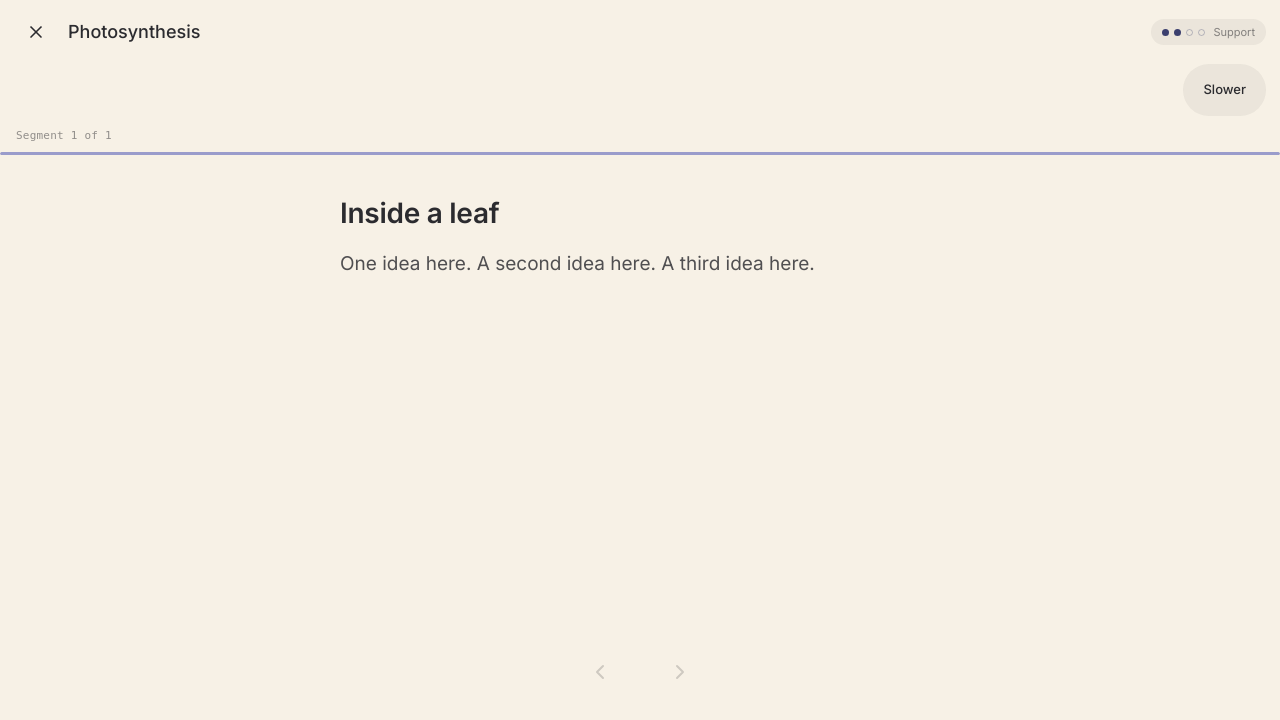
Test: authored Slower still wins where it exists › renders the numbered cards rather than chunking the body
Click the button "Slower" at (1225, 90), box [1188,68,1262,112]
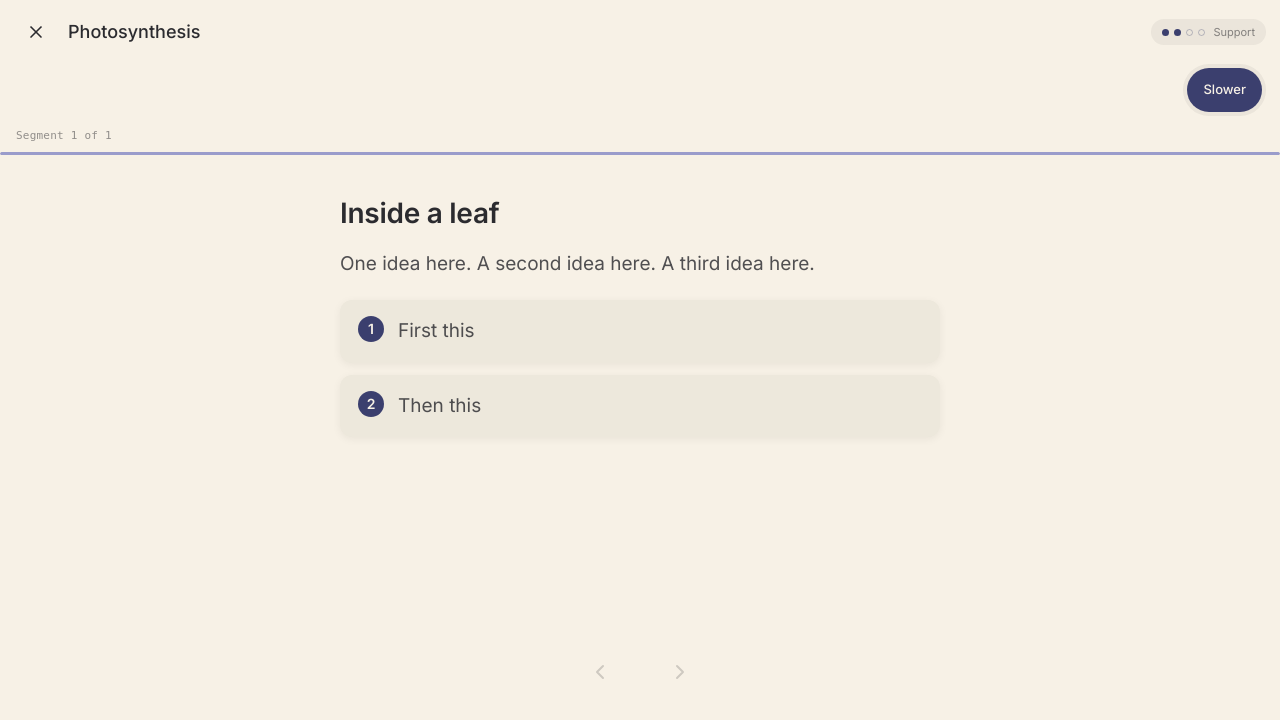
Expected: the text "First this" is shown, [398,316,475,346]
